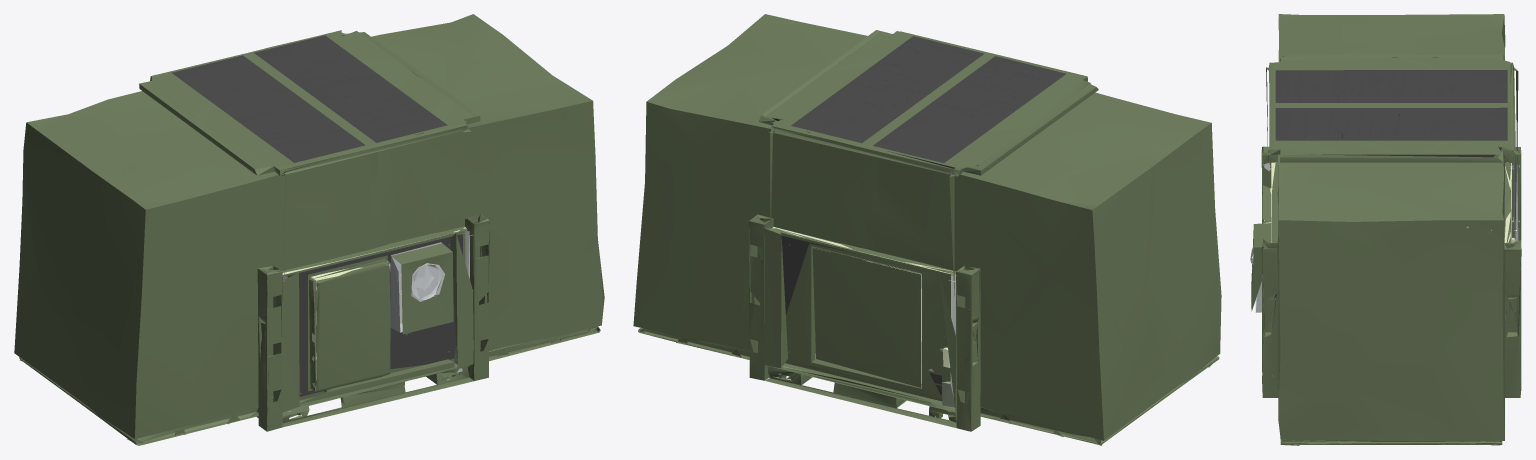
File: trecc-camp.glb
3 views of the same model, side by side, from view 1: azimuth 30°, elevation 25°; view 2: azimuth 150°, elevation 25°; view 3: azimuth 270°, elevation 25° (orthographic). The views are drawn at different scales.
Visible parts, largest first — view 1: Solid4340; view 2: Solid4340; view 3: Solid4340.
Boxes of the visible parts, box(x1,y1,x2,y2) form: Solid4340: box(14, 14, 604, 445); Solid4340: box(633, 14, 1221, 445); Solid4340: box(1250, 14, 1521, 445).
Bounding box in the file's own units: 4.52 × 2.34 × 2.38.
